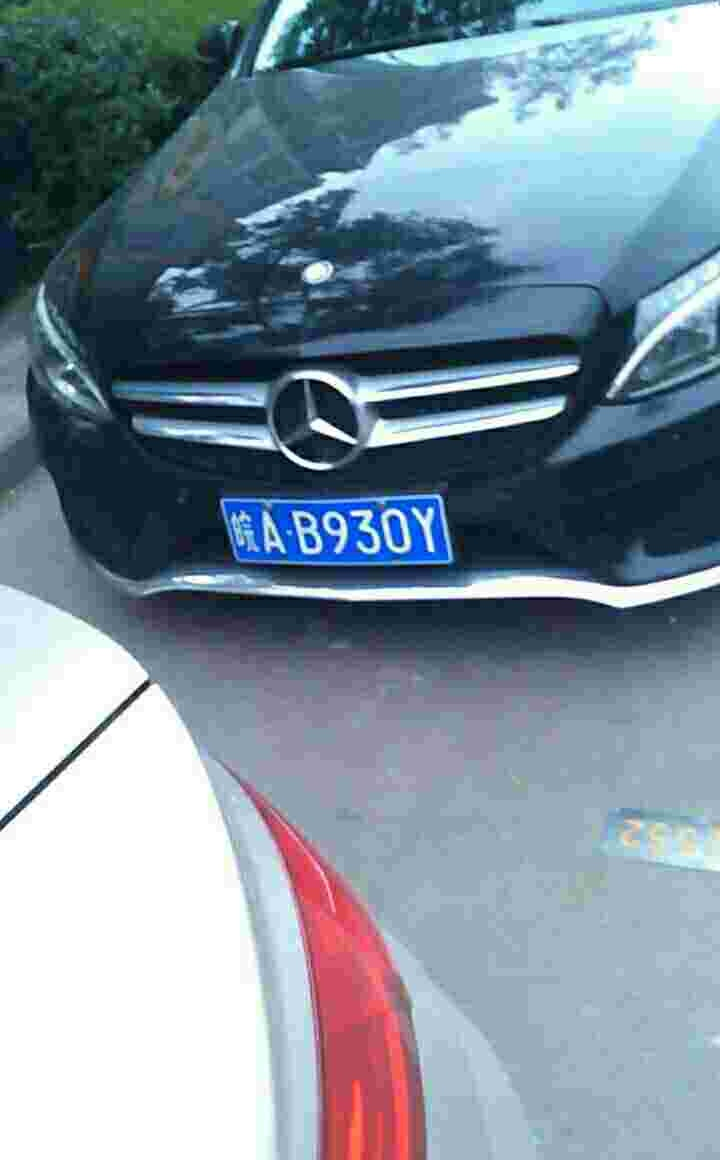plate: (215, 494, 458, 569)
